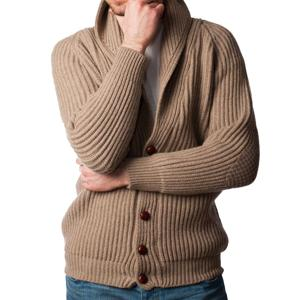S_cardigan sweater: (45, 2, 261, 289)
